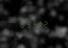five: (30, 20, 35, 27)
nine: (24, 20, 29, 28)
one: (36, 19, 41, 27)
six: (18, 20, 23, 28)
two: (42, 19, 47, 27)
